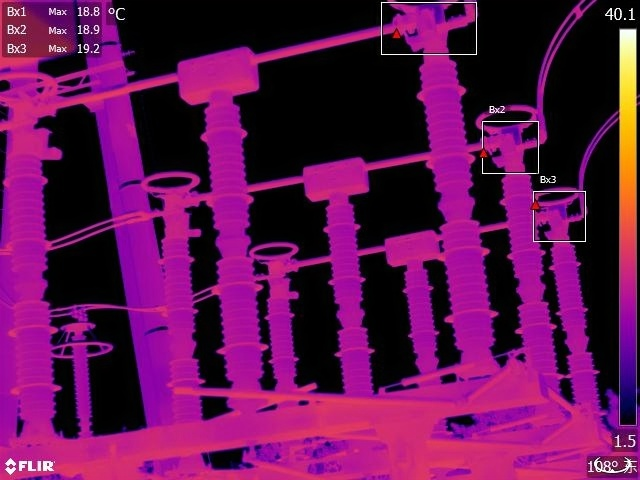lightning arrester: (52, 313, 122, 434)
post insulator: (415, 51, 499, 353), (198, 101, 272, 387), (9, 124, 63, 434), (502, 163, 565, 388), (325, 199, 385, 394), (551, 236, 606, 414), (160, 217, 202, 421), (401, 262, 444, 376), (268, 277, 307, 386)
switch: (1, 1, 477, 130), (159, 97, 541, 220), (264, 189, 581, 282)
